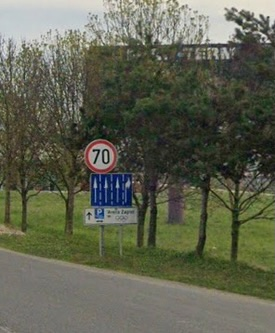Ograničenje brzine 70: (84, 139, 117, 173)
